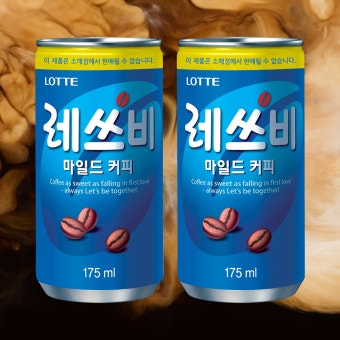paper: (26, 35, 169, 303), (174, 37, 309, 306)
